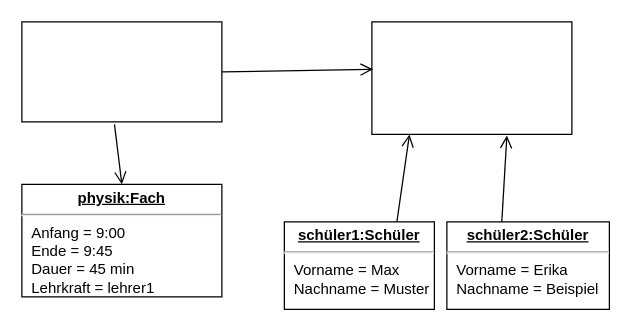
The diagram is 631 pixels wide and 331 high, and some of its shapes have lost their labels. Each missing label, with the centre of its shape:
"lehrer1:Lehrer Vorname = Heinz Nachname = Becker Fach = Mathe, Physik" goes at [121,71].
"mathe:Fach Anfang = 8:00 Ende = 8:45 Dauer = 45 min Lehrkraft = lehrer1" goes at [471,77].
